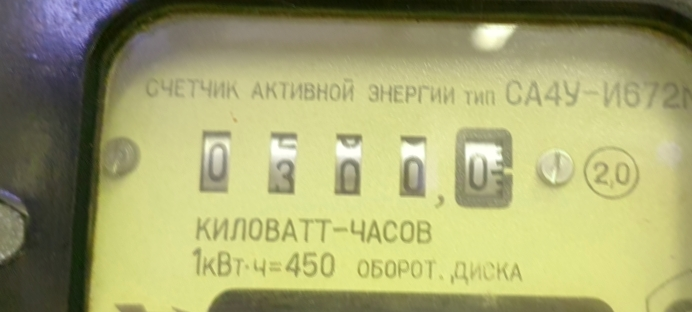0: (399, 152, 424, 196), (204, 137, 227, 183), (463, 149, 488, 191), (335, 154, 359, 195)
3: (270, 154, 294, 193)
screen: (177, 106, 531, 223)
